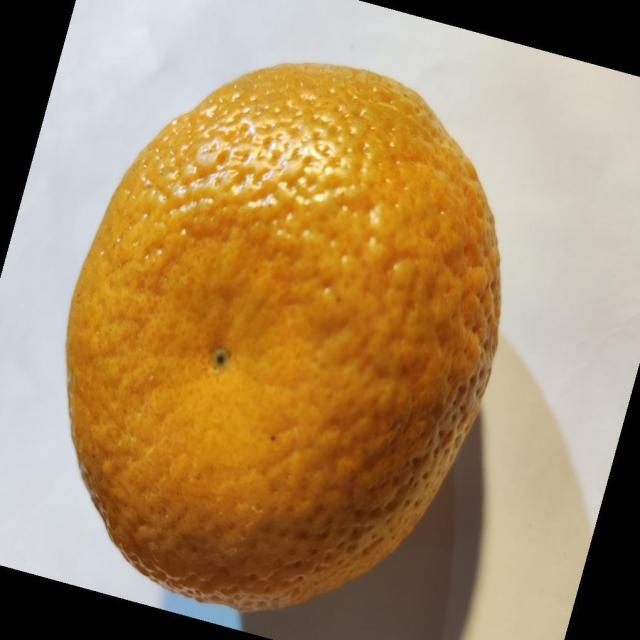agrume: (64, 60, 503, 612)
